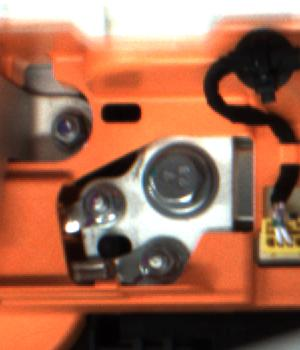nut_b: (138, 139, 230, 223)
